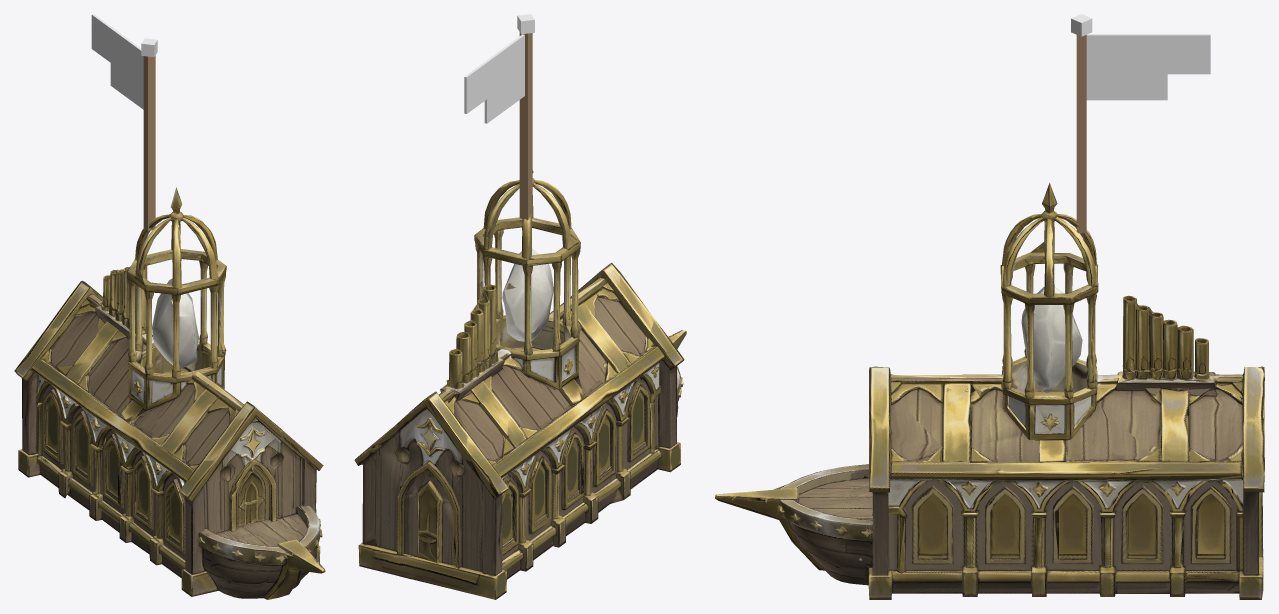
The model's file is starborn_reliquary_ark.glb.
The picture shows the model from 3 angles, left to right: view 1: azimuth 30°, elevation 25°; view 2: azimuth 150°, elevation 25°; view 3: azimuth 270°, elevation 25°; orthographic projection. The views are drawn at different scales.
Parts seen in each view (by area): view 1: starborn_reliquary_ark, Team_pennant; view 2: starborn_reliquary_ark, Team_pennant; view 3: starborn_reliquary_ark, Team_pennant.
Part boxes in pixels (bbox=[...]): starborn_reliquary_ark: bbox=[14, 187, 325, 599]; Team_pennant: bbox=[91, 14, 157, 231]; starborn_reliquary_ark: bbox=[354, 170, 686, 599]; Team_pennant: bbox=[464, 14, 534, 220]; starborn_reliquary_ark: bbox=[715, 183, 1264, 599]; Team_pennant: bbox=[1071, 14, 1210, 233].
Size of the model in its own units: 0.6148 by 2.05 by 1.9.
3 materials, 1 textured.
